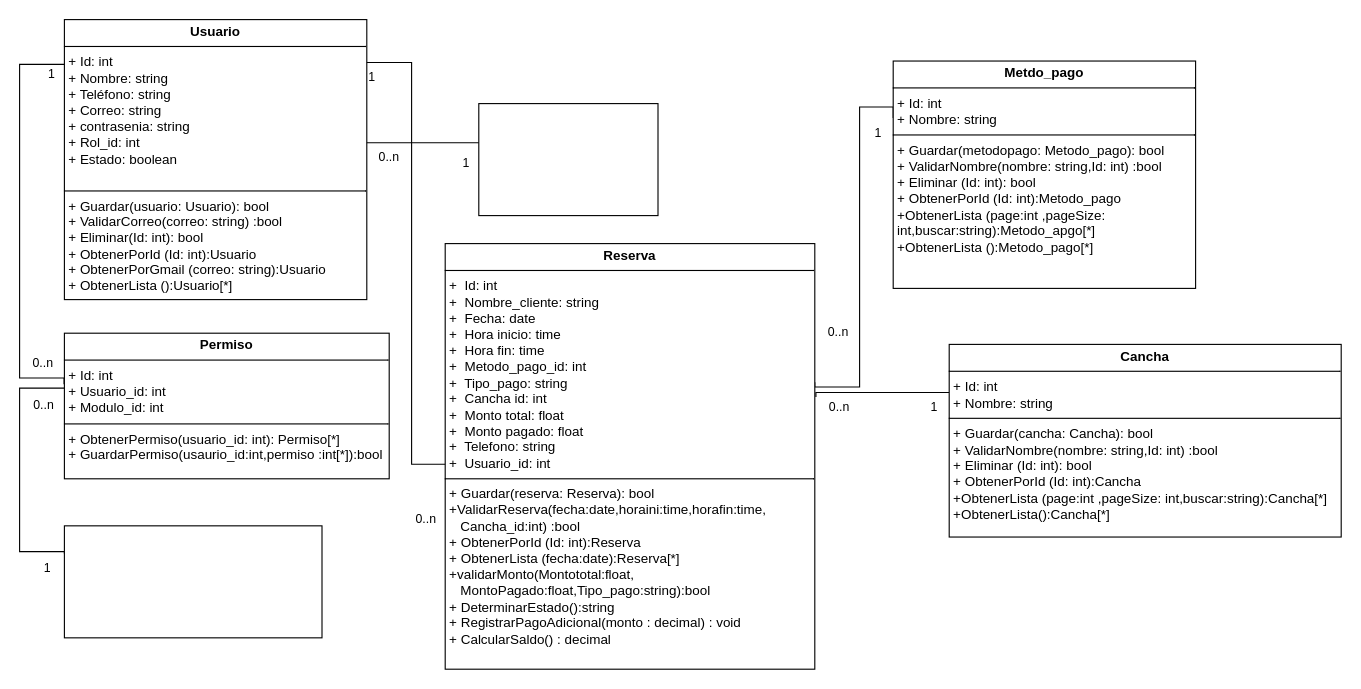
This 1361x689 diagram has some shape labels left out. Each missing label, with the box of its shape:
Modulo + Id: int + Nombre: string + ObtenerLista ():Modulo[*]: (63, 525, 322, 638)
Rol + Id: int + Nombre: string +ObtenerLista ():Rol[*]: (478, 102, 658, 216)
